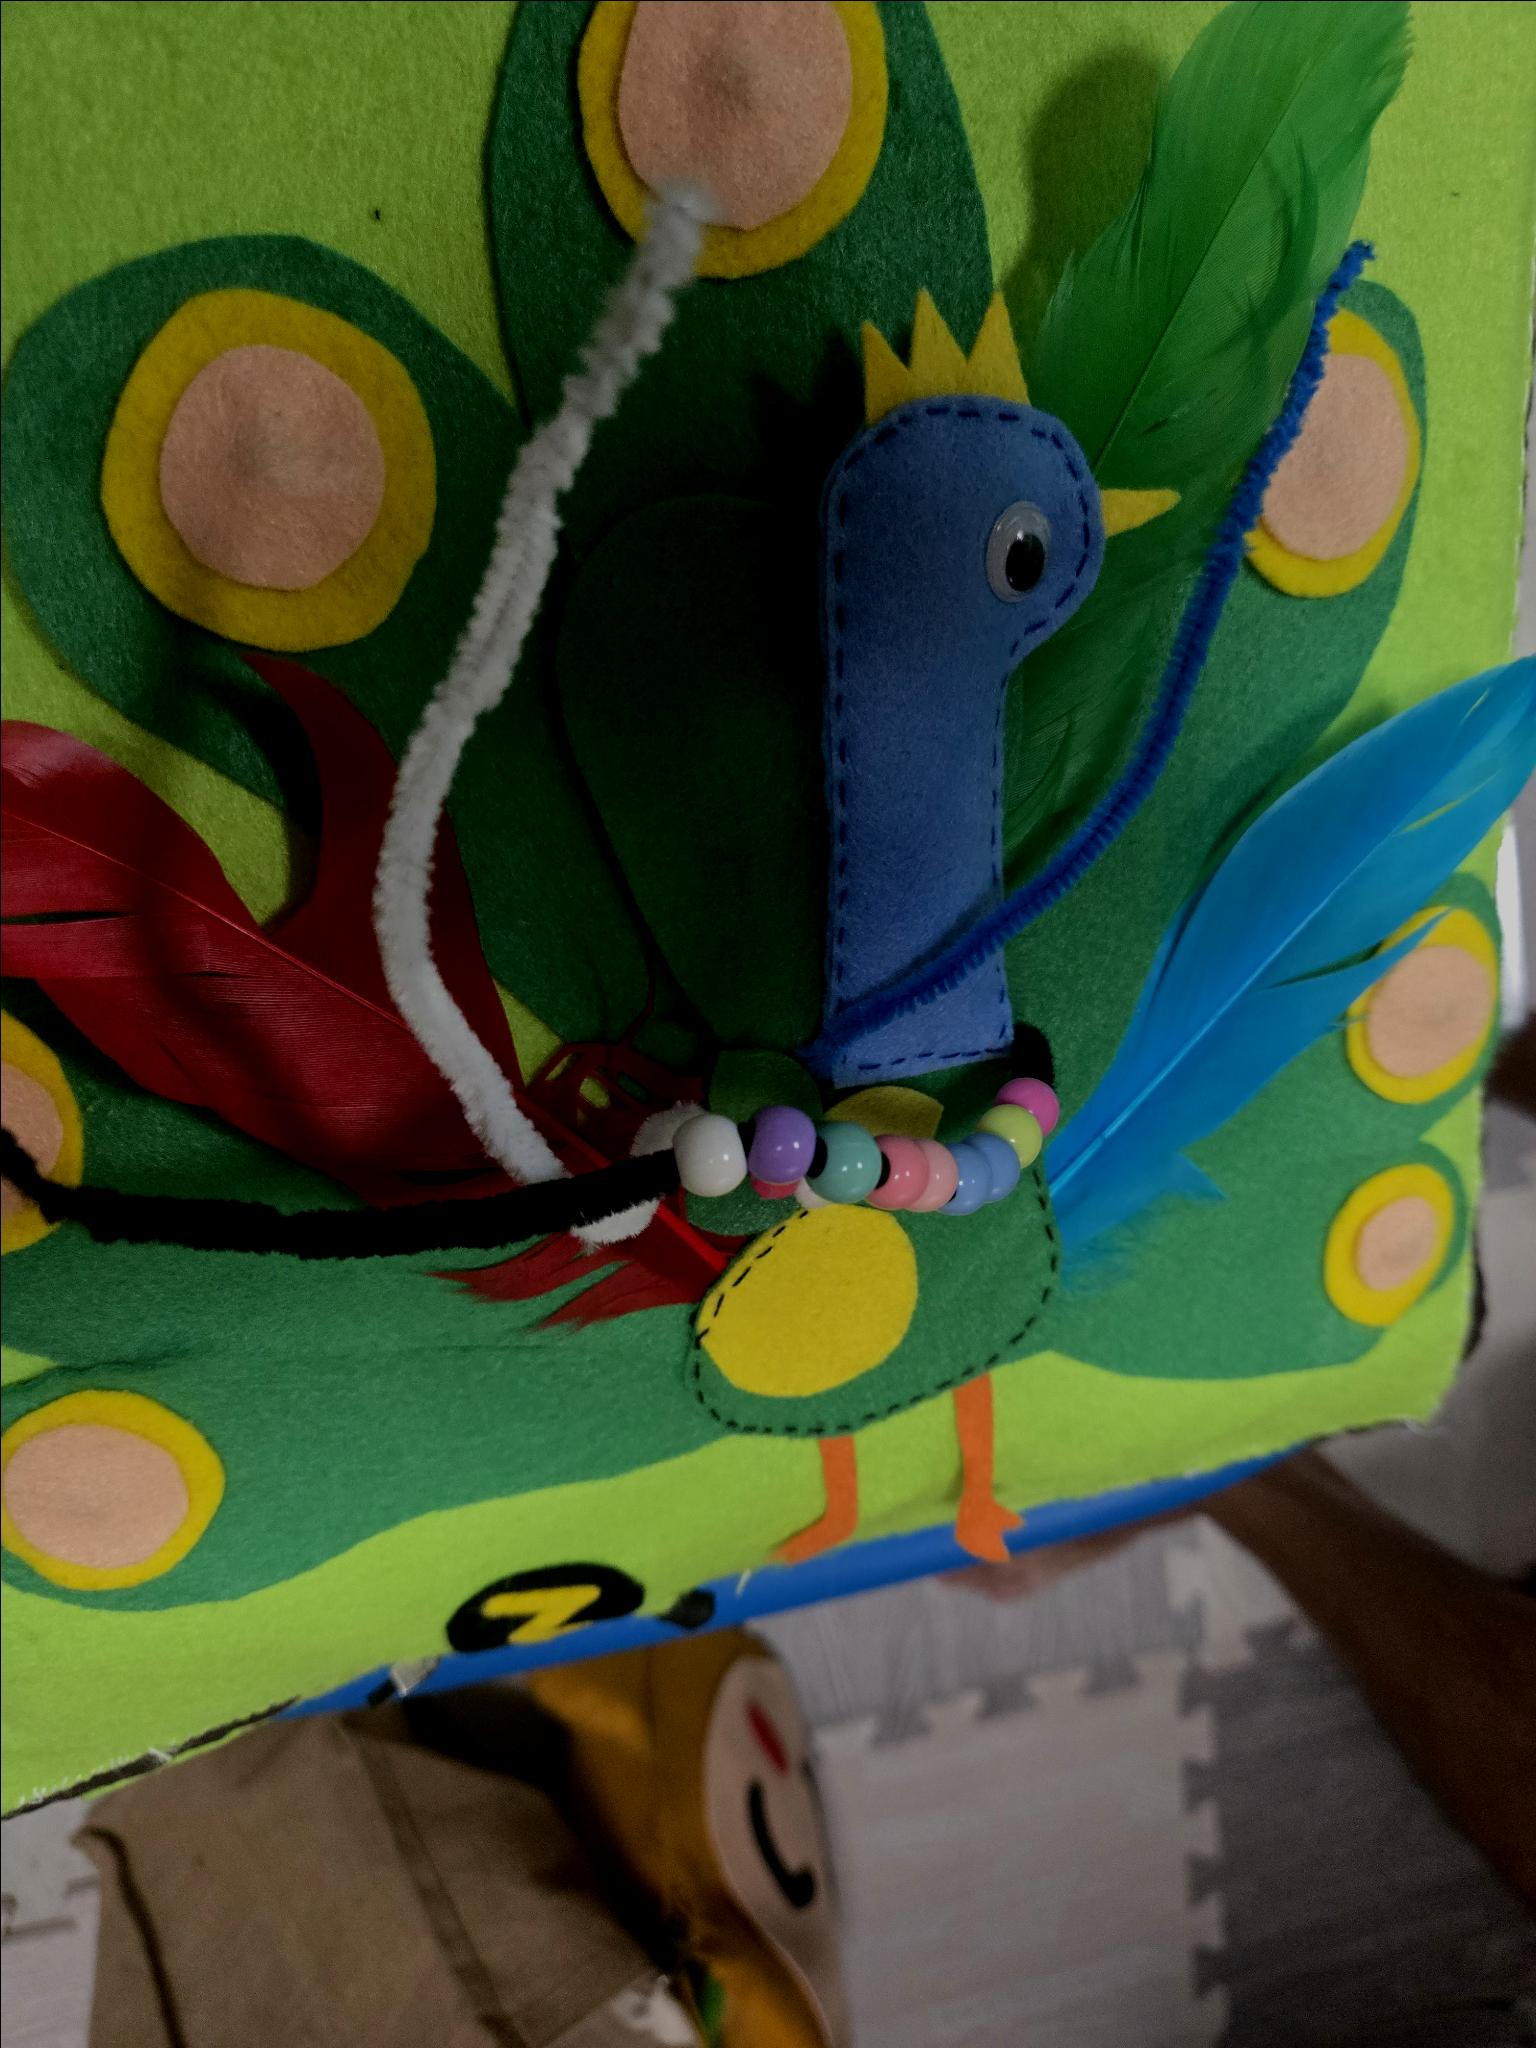bead: (816, 1122, 886, 1214), (981, 1097, 1055, 1177), (744, 1113, 818, 1193), (936, 1127, 999, 1219), (874, 1138, 937, 1218), (670, 1122, 726, 1209), (1002, 1076, 1075, 1132)
